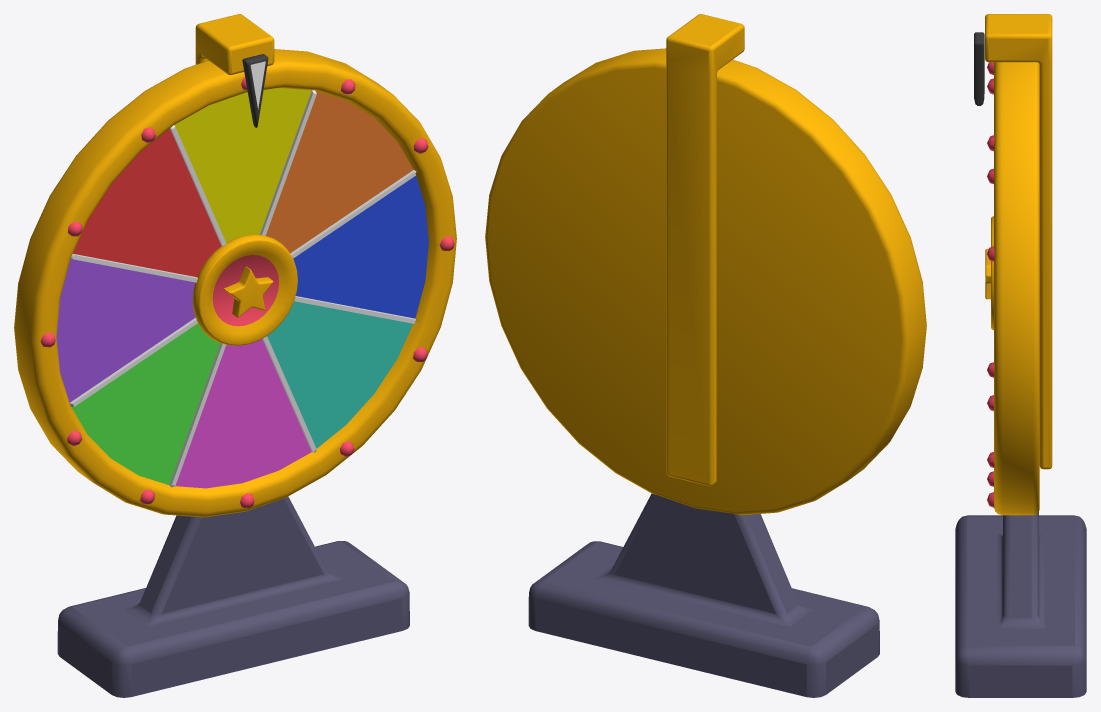
Rendered from SpinningWheel_LP.glb.
3 views of the same model, side by side, from view 1: azimuth 30°, elevation 25°; view 2: azimuth 150°, elevation 25°; view 3: azimuth 270°, elevation 25° (orthographic).
Visible parts, largest first — view 1: Cylinder, Cube.017, Cube.020; view 2: Cylinder, Cube.017; view 3: Cube.017, Cylinder, Cube.020.
Boxes of the visible parts, x1,y1,x2,y2 form: Cylinder: [14, 49, 456, 517]; Cube.017: [57, 14, 409, 697]; Cube.020: [242, 54, 268, 127]; Cylinder: [485, 48, 926, 515]; Cube.017: [528, 14, 879, 697]; Cube.017: [955, 14, 1086, 697]; Cylinder: [985, 62, 1039, 515]; Cube.020: [974, 32, 984, 105].
Bounding box in the file's own units: 1.29 × 1.77 × 0.3497.
